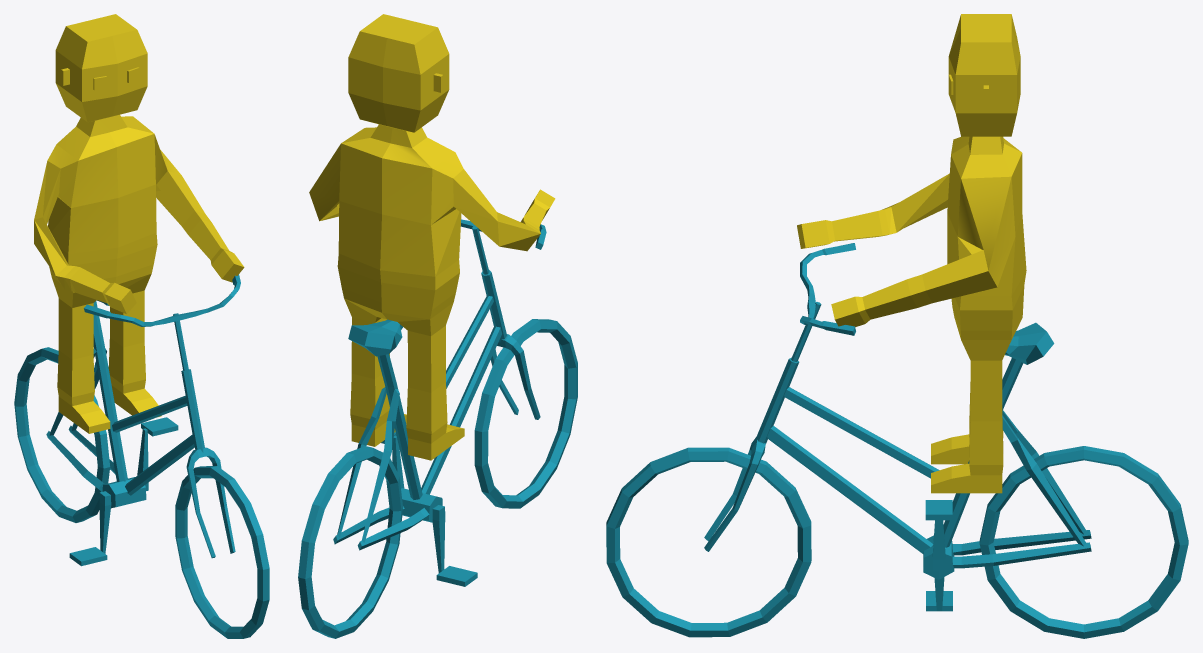
File: cyclist.obj
3 renders of one model, left to right at view 1: azimuth 30°, elevation 25°; view 2: azimuth 150°, elevation 25°; view 3: azimuth 270°, elevation 25°, orthographic. The views are drawn at different scales.
Visible parts, largest first — view 1: Object_9, bike_body_dummyProp_0, bike_tyre1_dummyProp_0, bike_tyre2_dummyProp_0, bike_handleBar_dummyProp_0, bike_fork_dummyProp_0, bike_pedal_dummyProp_0, bike_pedalFootR_dummyProp_0, bike_pedalFootL_dummyProp_0; view 2: Object_9, bike_body_dummyProp_0, bike_tyre1_dummyProp_0, bike_tyre2_dummyProp_0, bike_fork_dummyProp_0, bike_pedal_dummyProp_0, bike_handleBar_dummyProp_0, bike_pedalFootR_dummyProp_0; view 3: Object_9, bike_body_dummyProp_0, bike_tyre1_dummyProp_0, bike_tyre2_dummyProp_0, bike_handleBar_dummyProp_0, bike_fork_dummyProp_0, bike_pedal_dummyProp_0.
Boxes of the visible parts, <box> form: Object_9: <box>34,14,244,433</box>; bike_body_dummyProp_0: <box>46,300,204,508</box>; bike_tyre1_dummyProp_0: <box>175,466,269,638</box>; bike_tyre2_dummyProp_0: <box>14,347,110,522</box>; bike_handleBar_dummyProp_0: <box>83,274,240,370</box>; bike_fork_dummyProp_0: <box>186,447,235,558</box>; bike_pedal_dummyProp_0: <box>99,428,148,553</box>; bike_pedalFootR_dummyProp_0: <box>69,547,107,566</box>; bike_pedalFootL_dummyProp_0: <box>141,417,178,436</box>; Object_9: <box>309,14,555,460</box>; bike_body_dummyProp_0: <box>333,270,506,550</box>; bike_tyre1_dummyProp_0: <box>474,319,577,508</box>; bike_tyre2_dummyProp_0: <box>298,446,402,638</box>; bike_fork_dummyProp_0: <box>490,334,540,419</box>; bike_pedal_dummyProp_0: <box>392,435,445,573</box>; bike_handleBar_dummyProp_0: <box>461,219,546,274</box>; bike_pedalFootR_dummyProp_0: <box>436,566,477,586</box>; Object_9: <box>797,14,1026,493</box>; bike_body_dummyProp_0: <box>754,322,1091,579</box>; bike_tyre1_dummyProp_0: <box>606,447,811,637</box>; bike_tyre2_dummyProp_0: <box>979,446,1188,638</box>; bike_handleBar_dummyProp_0: <box>791,243,855,361</box>; bike_fork_dummyProp_0: <box>704,437,765,551</box>; bike_pedal_dummyProp_0: <box>932,520,945,611</box>.
Bounding box in the file's own units: 0.6376 × 1.87 × 1.63.
